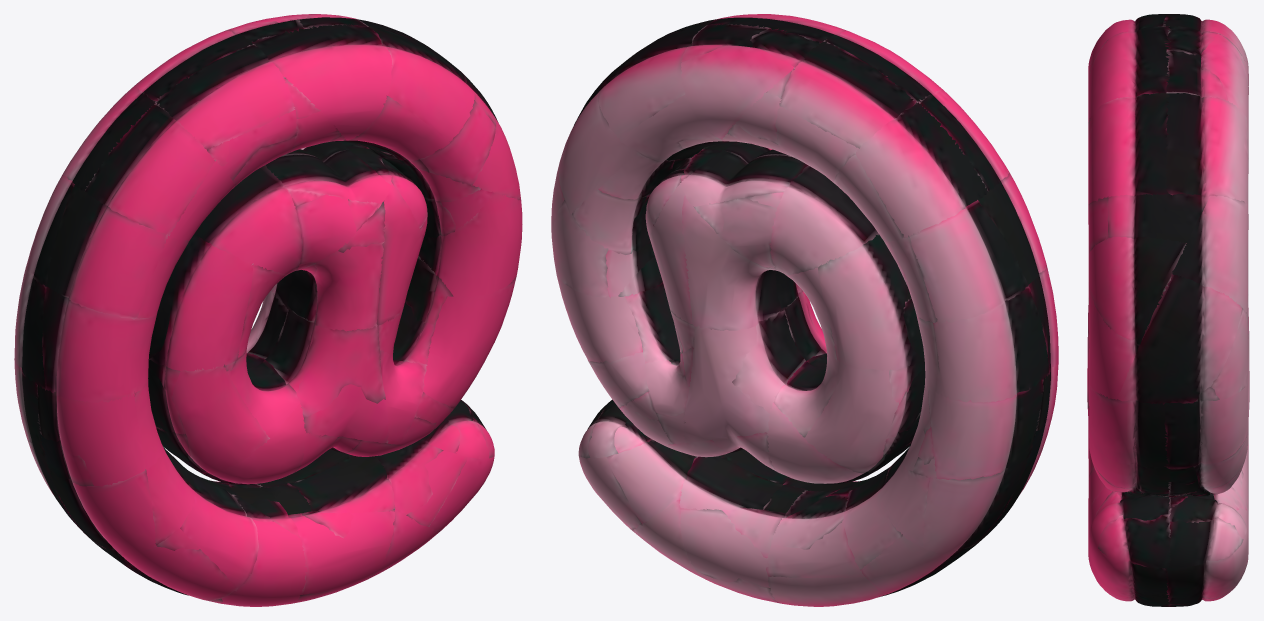
Rendered from poplur_cube_at_sign.glb.
The picture shows the model from 3 angles, left to right: view 1: azimuth 30°, elevation 25°; view 2: azimuth 150°, elevation 25°; view 3: azimuth 270°, elevation 25°; orthographic projection. The views are drawn at different scales.
Visible parts, largest first — view 1: mesh_node; view 2: mesh_node; view 3: mesh_node.
Part boxes in pixels (x1,y1,x2,y2): mesh_node: (14,14,522,606); mesh_node: (551,14,1058,606); mesh_node: (1087,14,1249,606).
Size of the model in its own units: 1.69 by 1.9 by 0.5183.
Materials: 1 (1 with a texture image).
